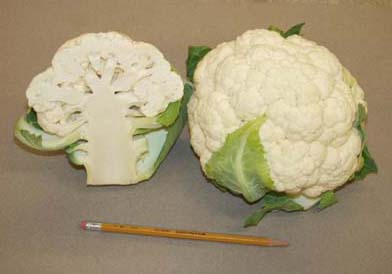cauliflower: (186, 23, 379, 227), (17, 32, 187, 187)
